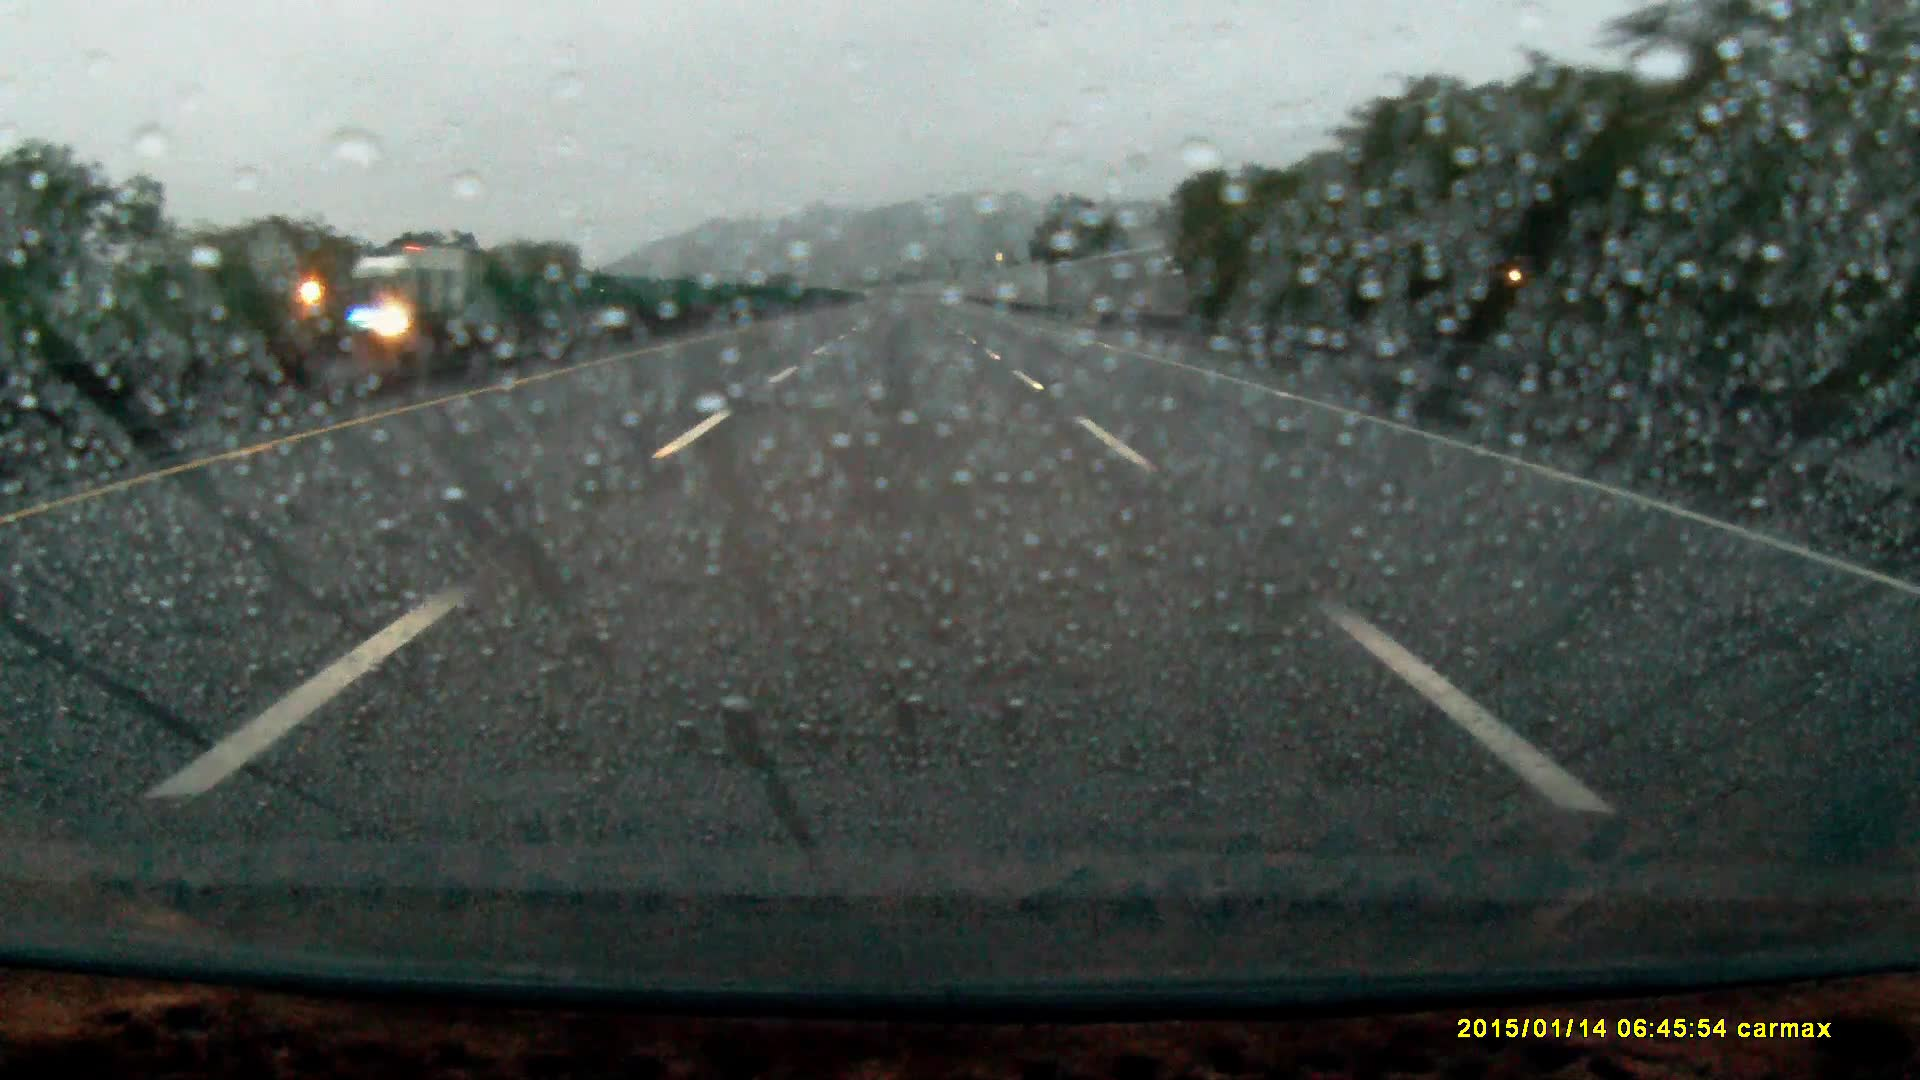vehicle: (332, 251, 475, 349)
